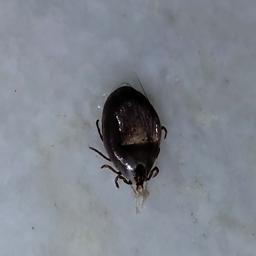Rhipicephalus sanguineus: (87, 86, 167, 196)
